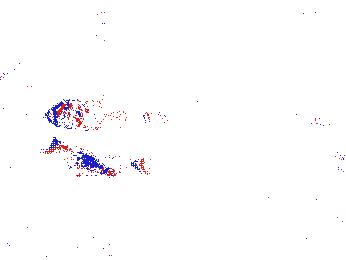X-ray fish: (44, 94, 132, 132)
red belly glassfish: (139, 106, 193, 129), (1, 72, 23, 87)
redtail glassfish: (51, 139, 119, 180), (74, 148, 153, 179), (250, 101, 321, 128)
